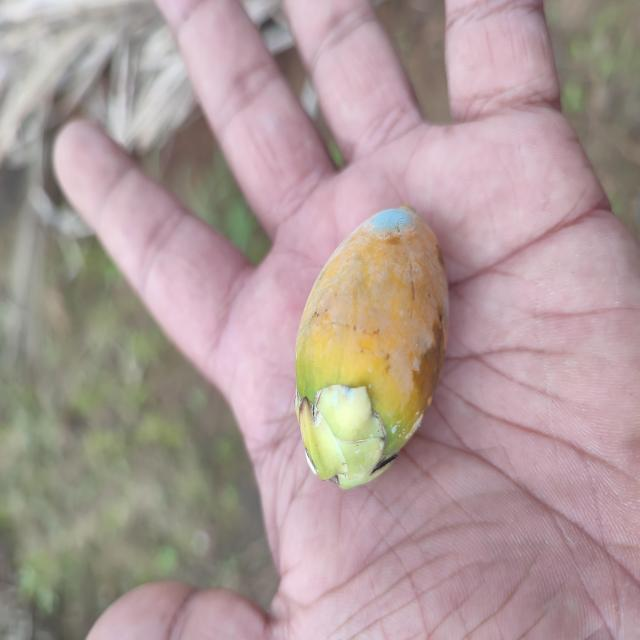good: (293, 208, 450, 492)
